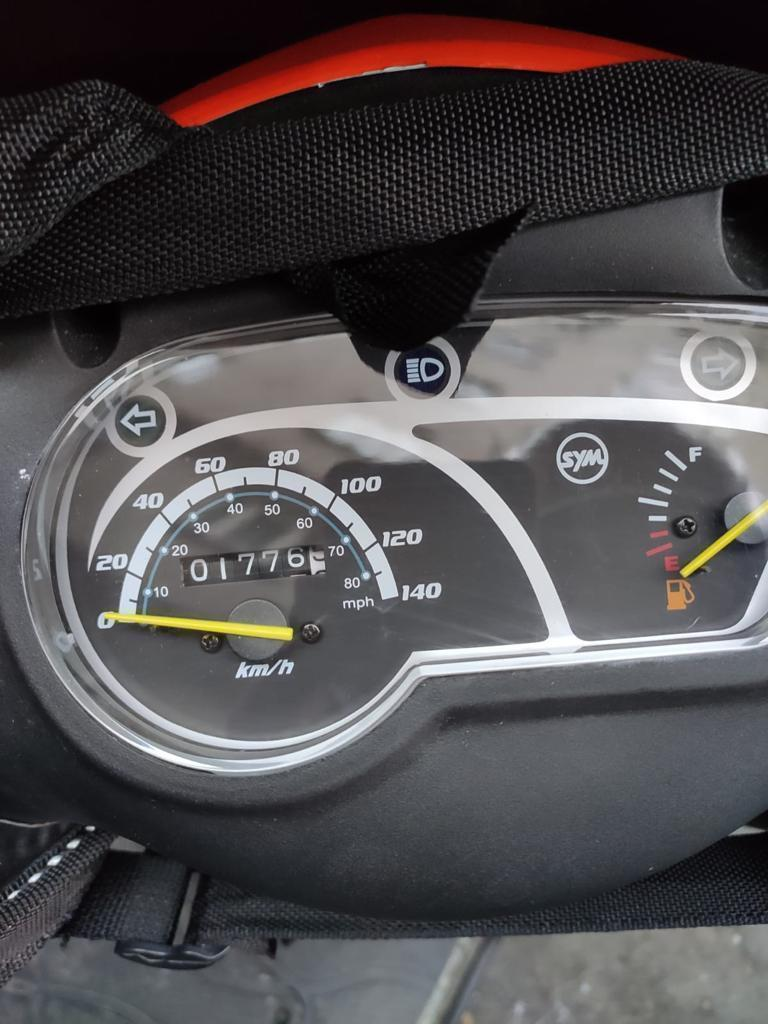0: (188, 557, 210, 582), (180, 543, 188, 555)
1: (215, 553, 230, 582)
2: (175, 544, 180, 557)
5: (310, 542, 327, 562)
6: (284, 545, 306, 569)
7: (259, 546, 280, 574), (235, 550, 256, 577)
odometer: (175, 541, 329, 590)
